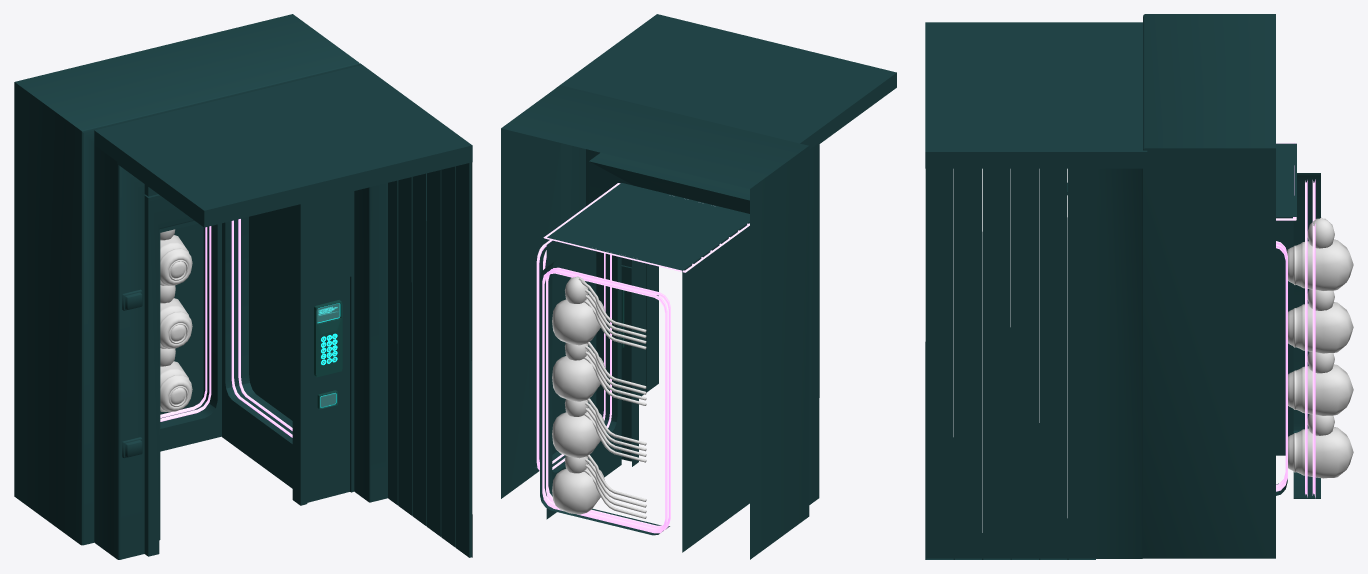
Rendered from ASCENSORx v2.fbx.
3 renders of one model, left to right at view 1: azimuth 30°, elevation 25°; view 2: azimuth 150°, elevation 25°; view 3: azimuth 270°, elevation 25°, orthographic. The views are drawn at different scales.
Visible parts, largest first — view 1: main body, techo, left pared, right_window, back_window, tubo back.002, tablero, neon right, neon back, detalle; view 2: main body, techo, tubo back.002, right_window, neon back, back_window, left pared, neon right, neon up; view 3: main body, left pared, techo, tubo back.002, back_window, neon back, neon right.
Boxes of the visible parts, bbox=[...] form: main body: bbox=[14, 14, 387, 559]; techo: bbox=[94, 63, 472, 227]; left pared: bbox=[388, 162, 472, 557]; right_window: bbox=[222, 206, 292, 488]; back_window: bbox=[160, 223, 221, 451]; tubo back.002: bbox=[160, 229, 192, 411]; tablero: bbox=[314, 300, 342, 409]; neon right: bbox=[231, 219, 292, 437]; neon back: bbox=[160, 226, 211, 421]; detalle: bbox=[122, 289, 142, 458]; main body: bbox=[501, 85, 819, 559]; techo: bbox=[560, 14, 896, 149]; tubo back.002: bbox=[552, 276, 646, 518]; right_window: bbox=[529, 238, 621, 519]; neon back: bbox=[542, 267, 670, 533]; back_window: bbox=[540, 260, 669, 535]; left pared: bbox=[639, 262, 658, 396]; neon right: bbox=[536, 240, 611, 470]; neon up: bbox=[543, 183, 749, 272]; main body: bbox=[1096, 14, 1296, 558]; left pared: bbox=[925, 168, 1095, 559]; techo: bbox=[925, 22, 1147, 168]; tubo back.002: bbox=[1287, 217, 1353, 478]; back_window: bbox=[1293, 173, 1320, 498]; neon back: bbox=[1305, 179, 1315, 498]; neon right: bbox=[1276, 241, 1287, 491].
Size of the model in its own units: 483 by 682 by 644.
Materials: 4 (1 with a texture image).
